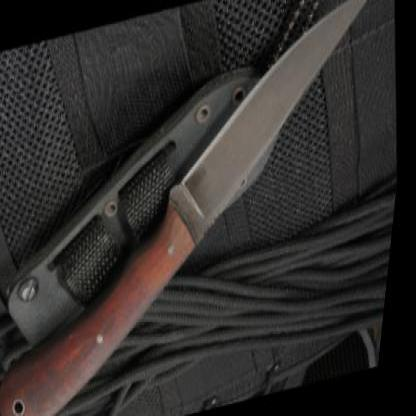knife: (145, 0, 406, 255)
